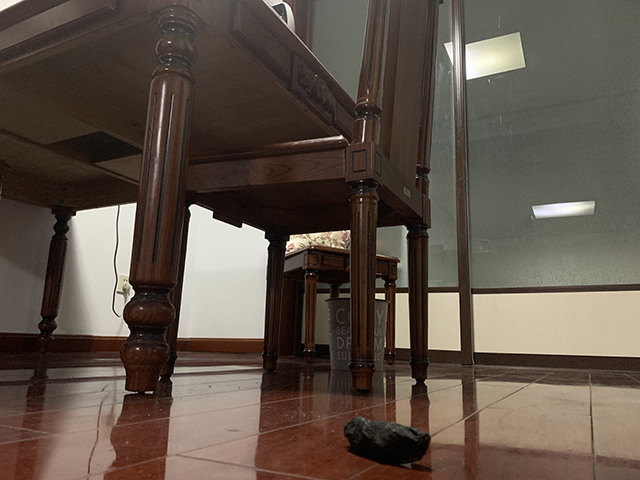feces: (343, 415, 432, 467)
stool: (158, 1, 443, 396), (279, 244, 402, 365)
table: (1, 1, 356, 395)
trashcan: (322, 297, 391, 372)
